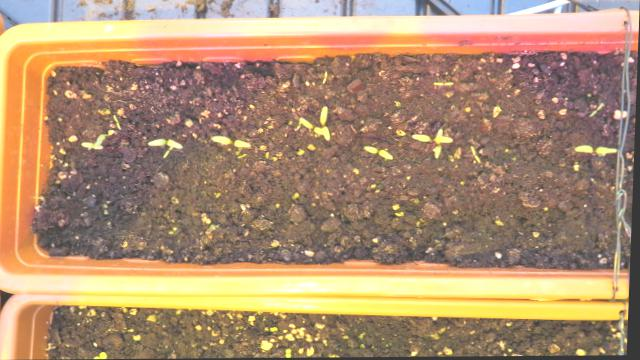crop: (570, 142, 620, 156), (209, 134, 255, 149), (360, 144, 396, 162)
weed: (585, 101, 607, 118), (316, 69, 329, 84)
